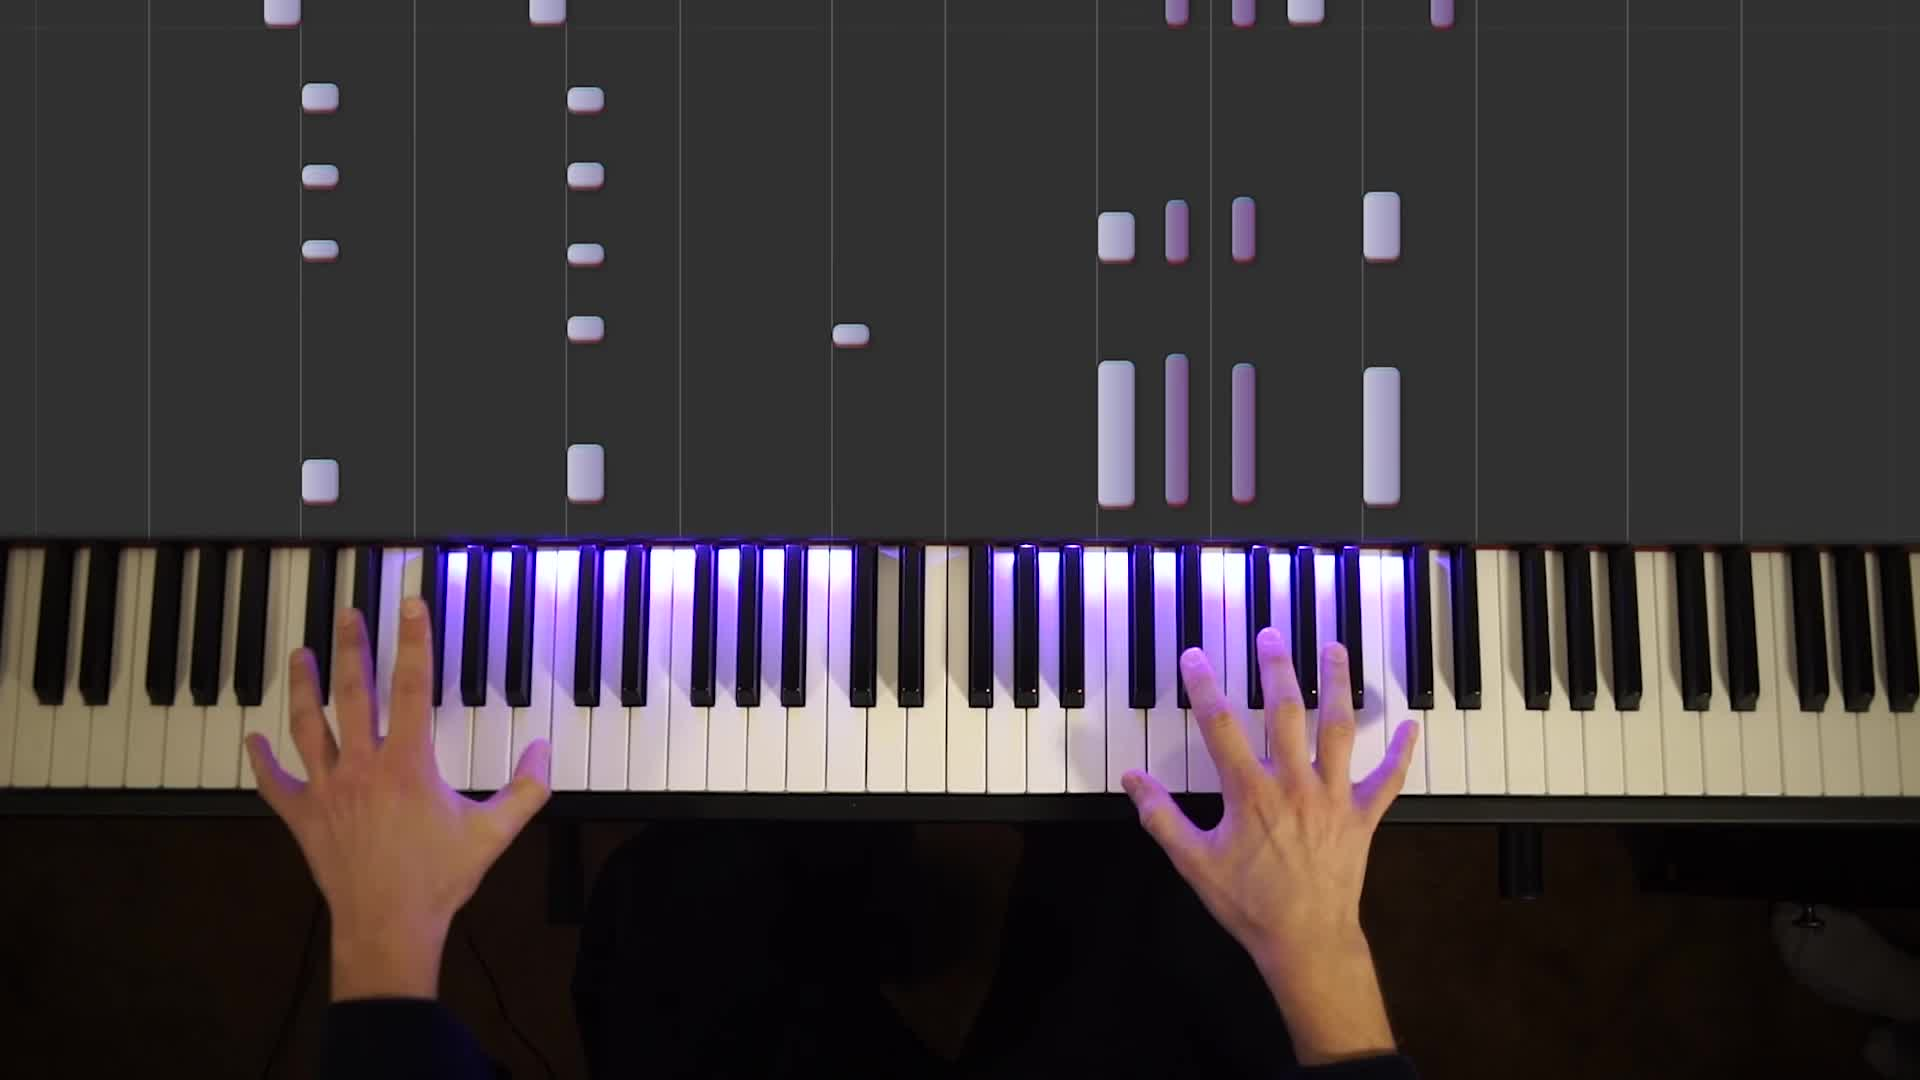left: (248, 599, 553, 936)
right: (1121, 625, 1419, 960)
